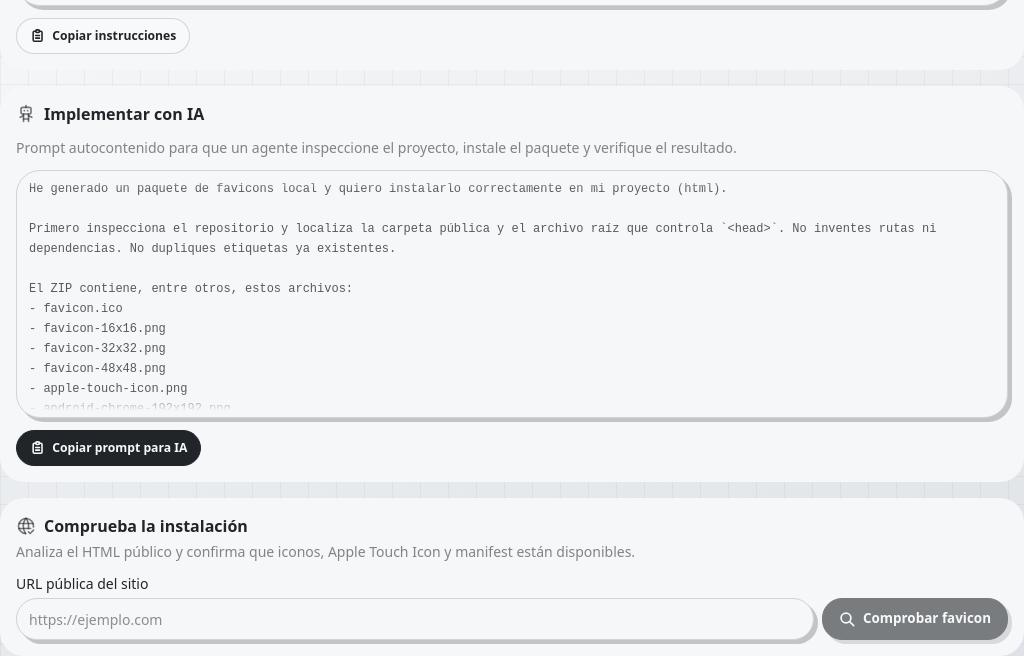
FaviconInstallationAssistant › reports the required public favicon checks
The image size is (1024, 656).
(page scrolled)
In the field labelled "URL pública del sitio": (415, 619) [16, 598, 814, 640], type "https://example.com"
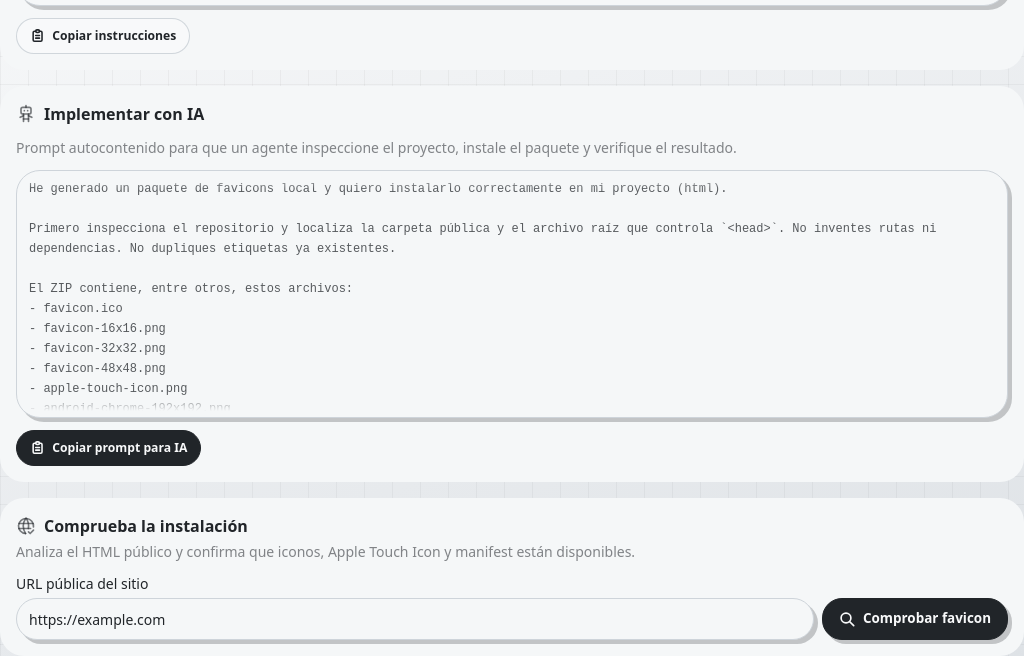
Click the button "Comprobar favicon": (915, 619) [822, 598, 1008, 640]
(page scrolled)
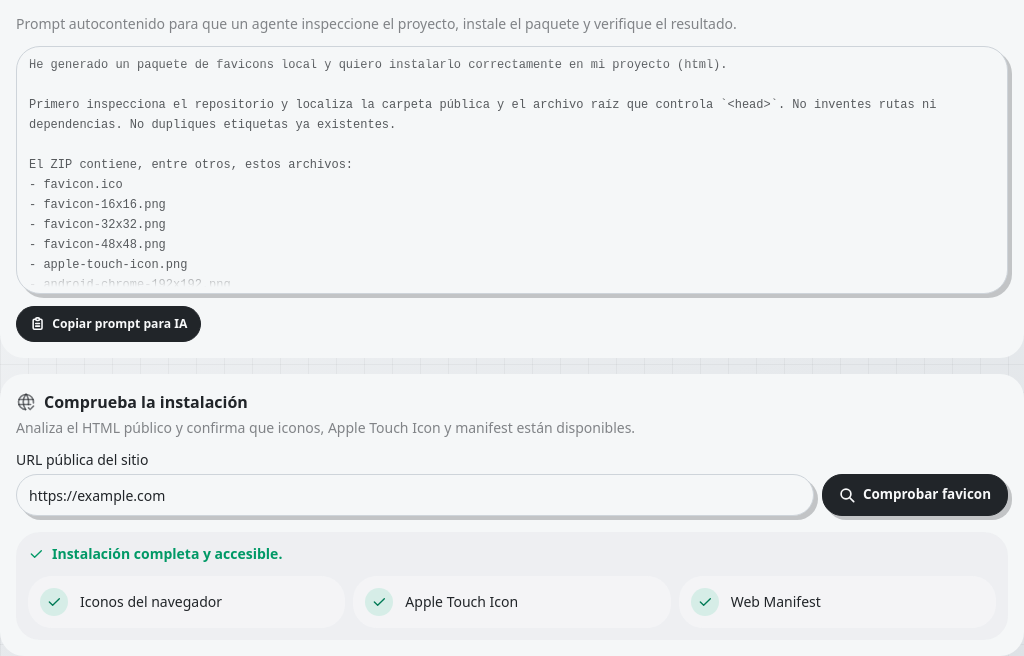
Expected: the text "Instalación completa y accesible." is shown, [28, 544, 282, 563]
Expected: the text "Web Manifest" is shown, [731, 592, 821, 612]
